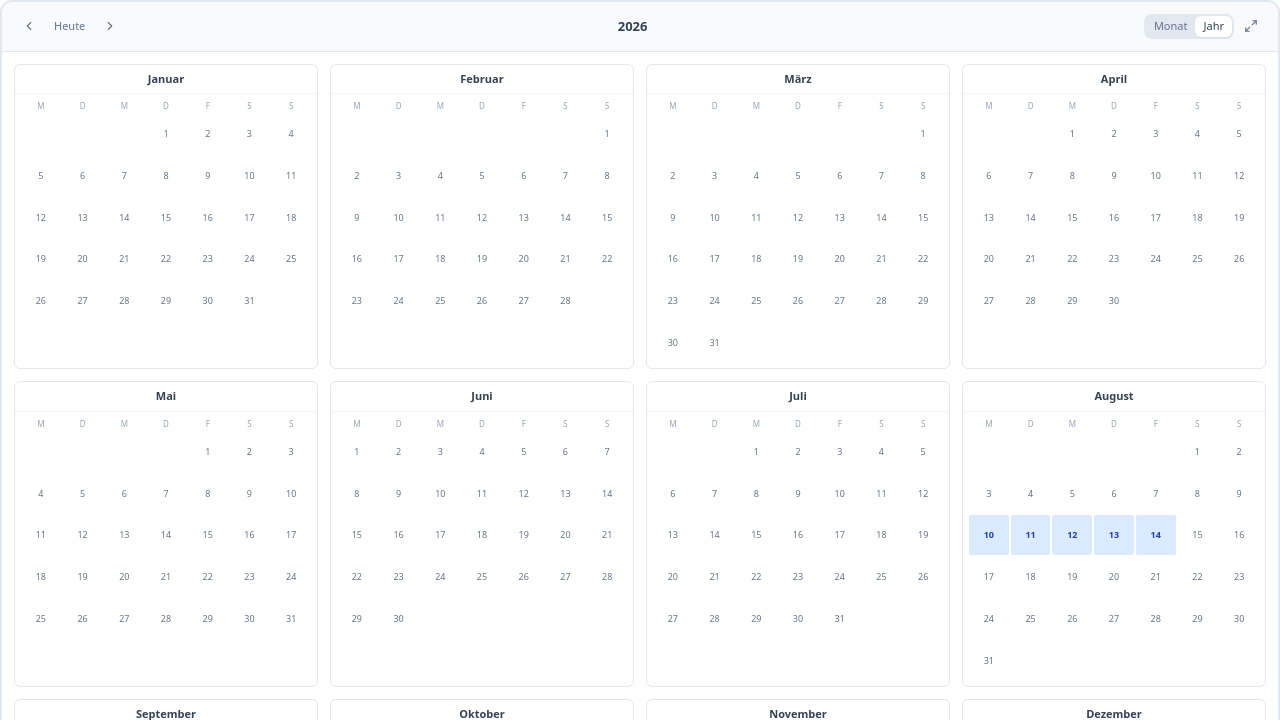
Scenario: LeaveCalendar — year view › clicking a day cell in year view opens the day-detail modal
Click the button with test id "cal-mini-cell-2026-08-10".
click(989, 535)  # box 969,515 -> 1009,555
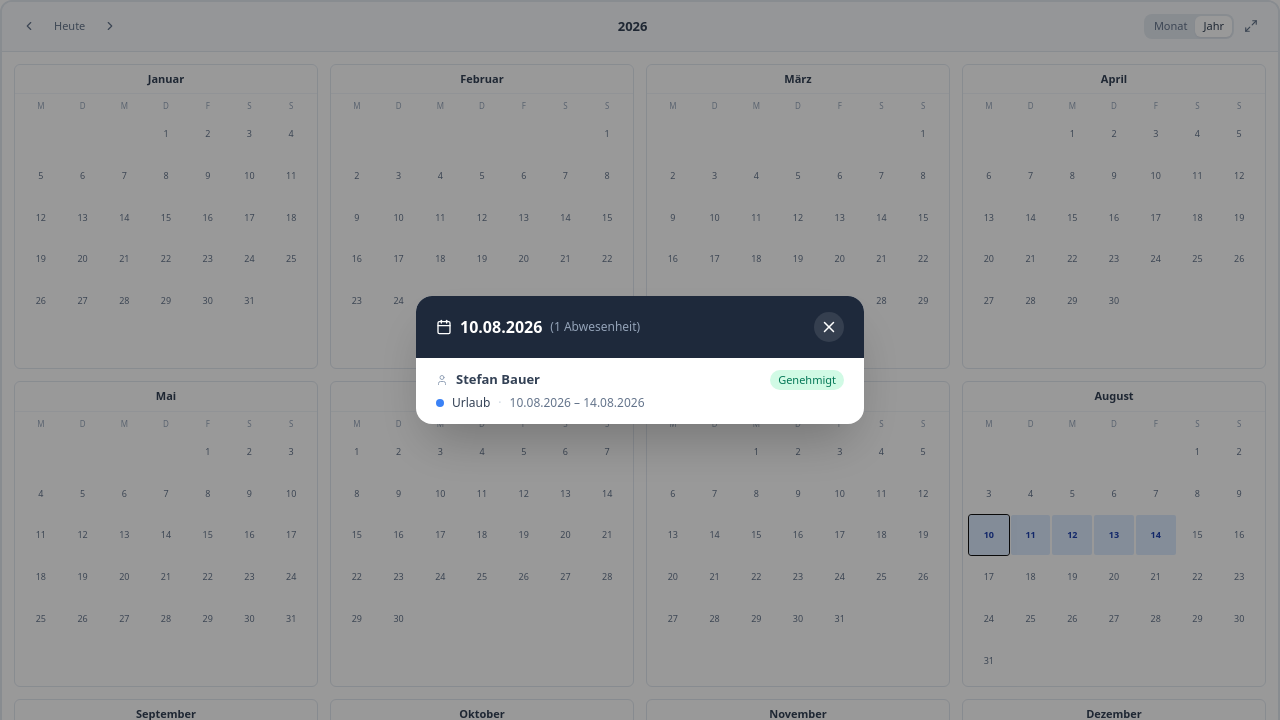
expect the text "Stefan Bauer" is shown: met, box 456,370 -> 540,389
